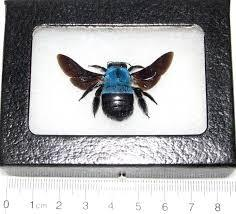Xylocopa: (55, 48, 178, 130)
